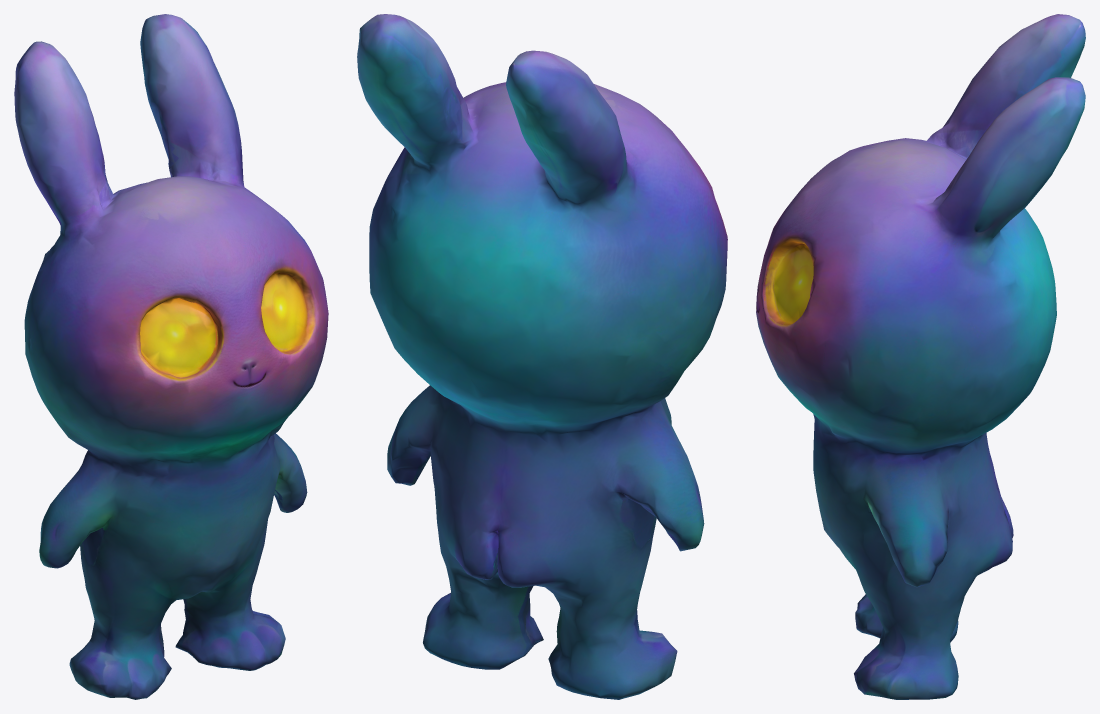
File: wibbit.glb
3 views of the same model, side by side, from view 1: azimuth 30°, elevation 25°; view 2: azimuth 150°, elevation 25°; view 3: azimuth 270°, elevation 25° (orthographic). The views are drawn at different scales.
Size of the model in its own units: 0.9641 by 2 by 0.979.
Materials: 1 (1 with a texture image).
